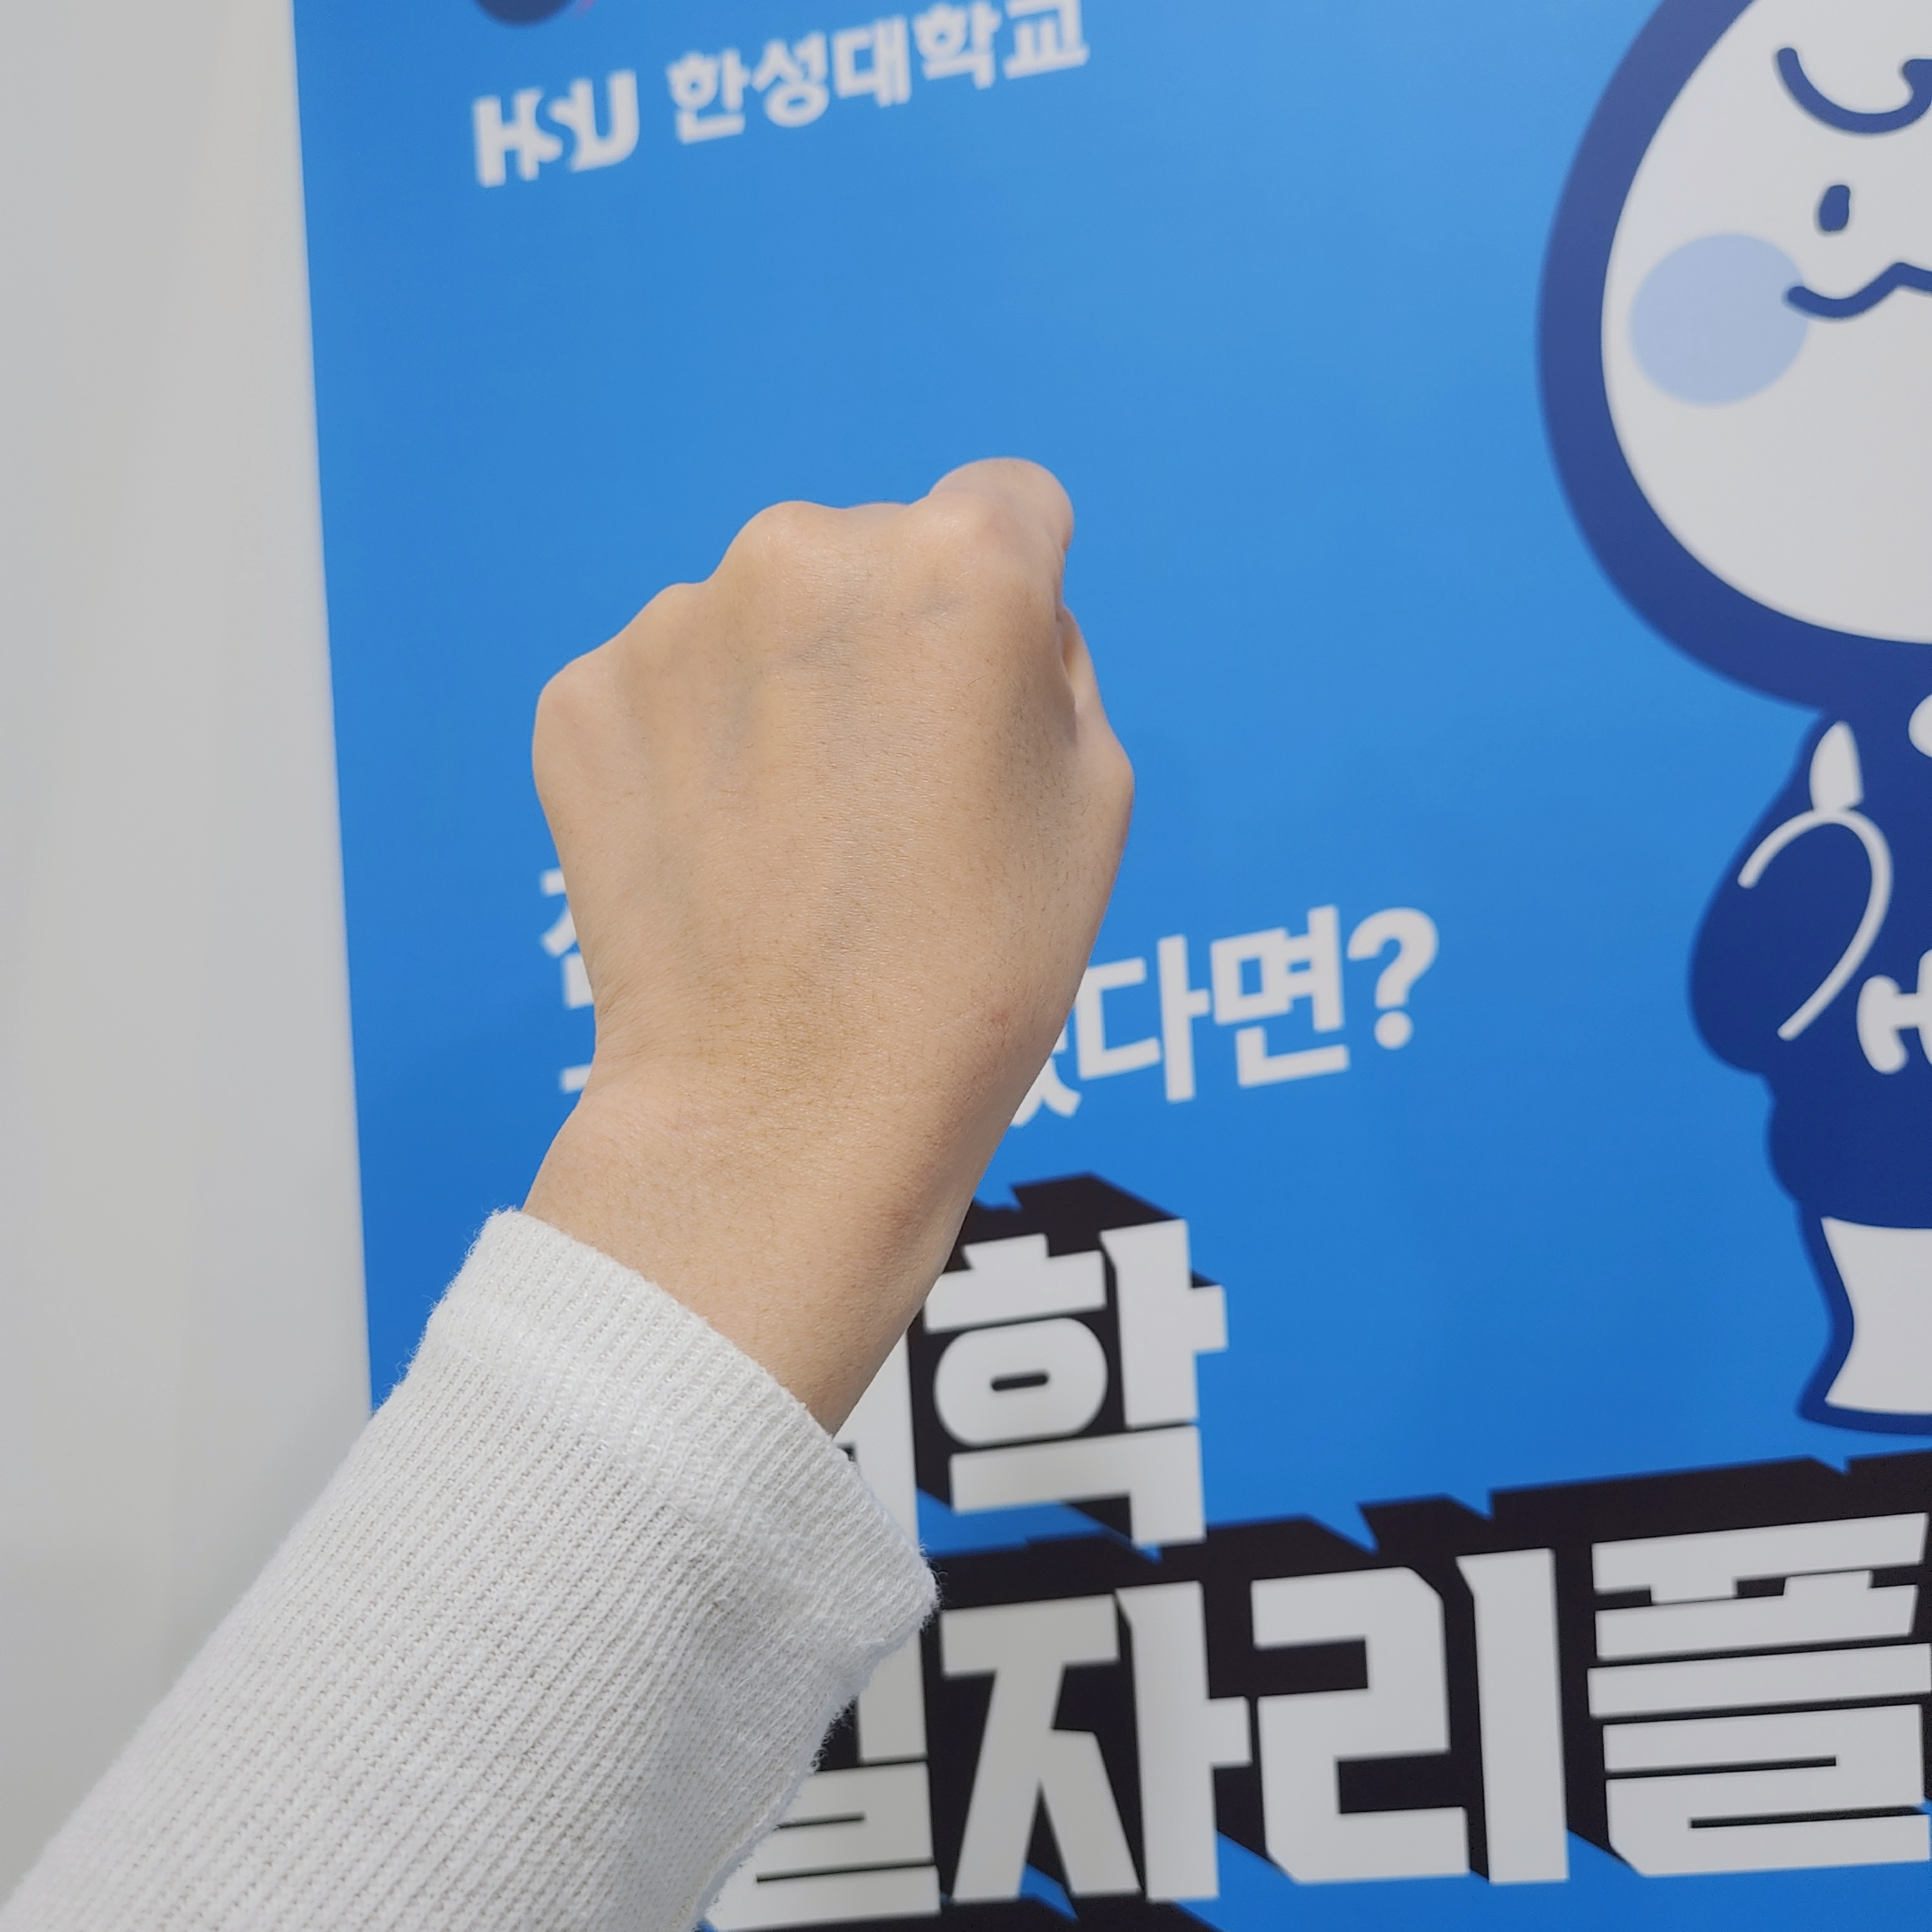smile: (524, 448, 1138, 1166)
